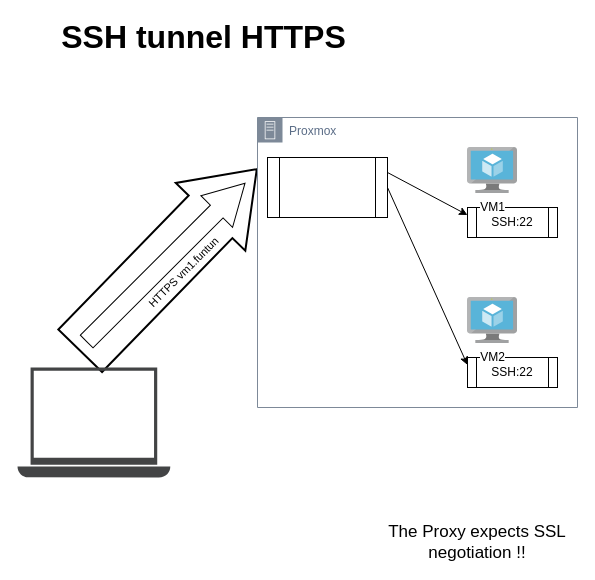
Some shapes in this 595 by 580 pixel diagram are drawn without their labels. Each missing label, with the box of its shape:
NGINX HTTPS:443: (266, 156, 388, 218)
ssh handshake: (70, 166, 261, 358)
ssh vm1.funtun: (17, 367, 170, 477)
